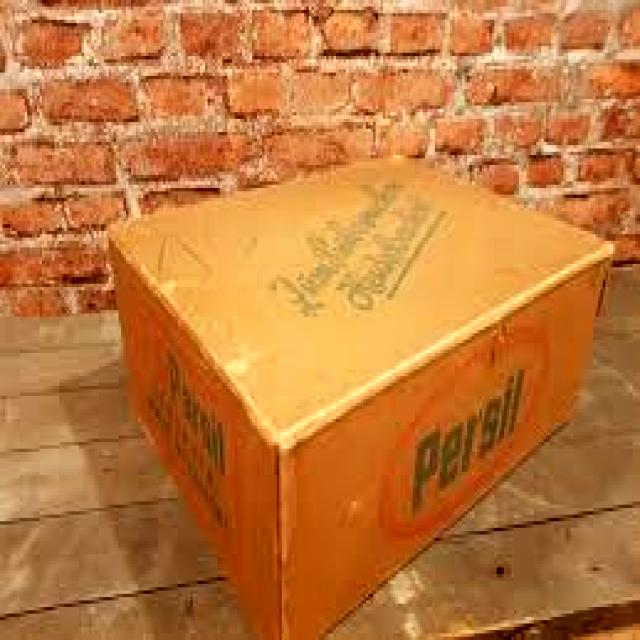Cardboard: (102, 146, 618, 640)
